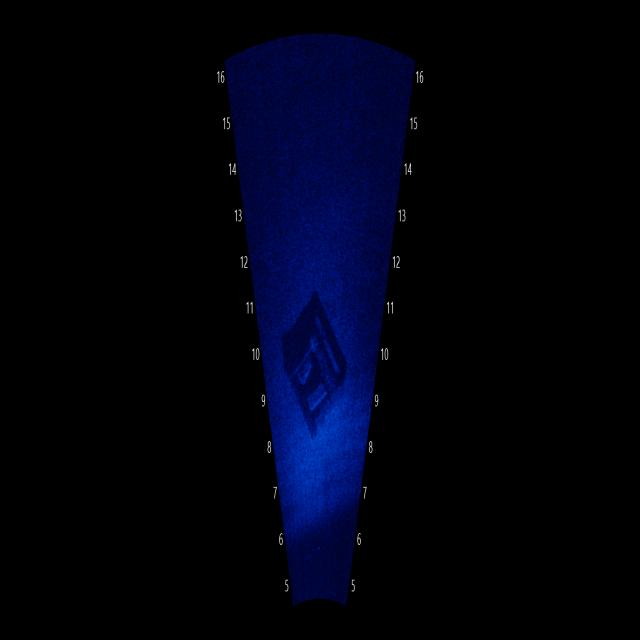square: (278, 291, 356, 448)
